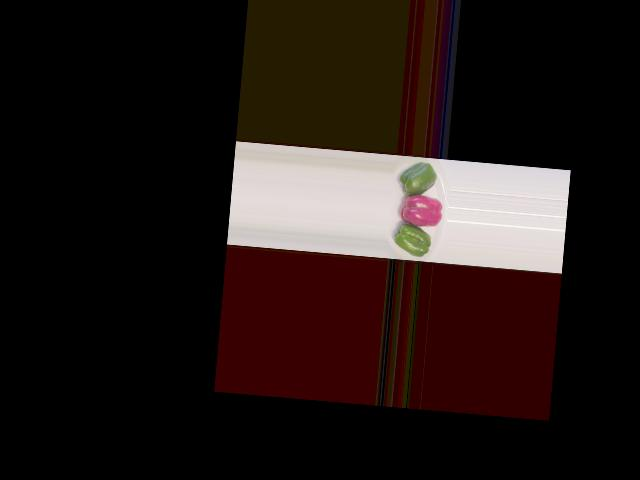bell_pepper: (394, 158, 442, 198)
